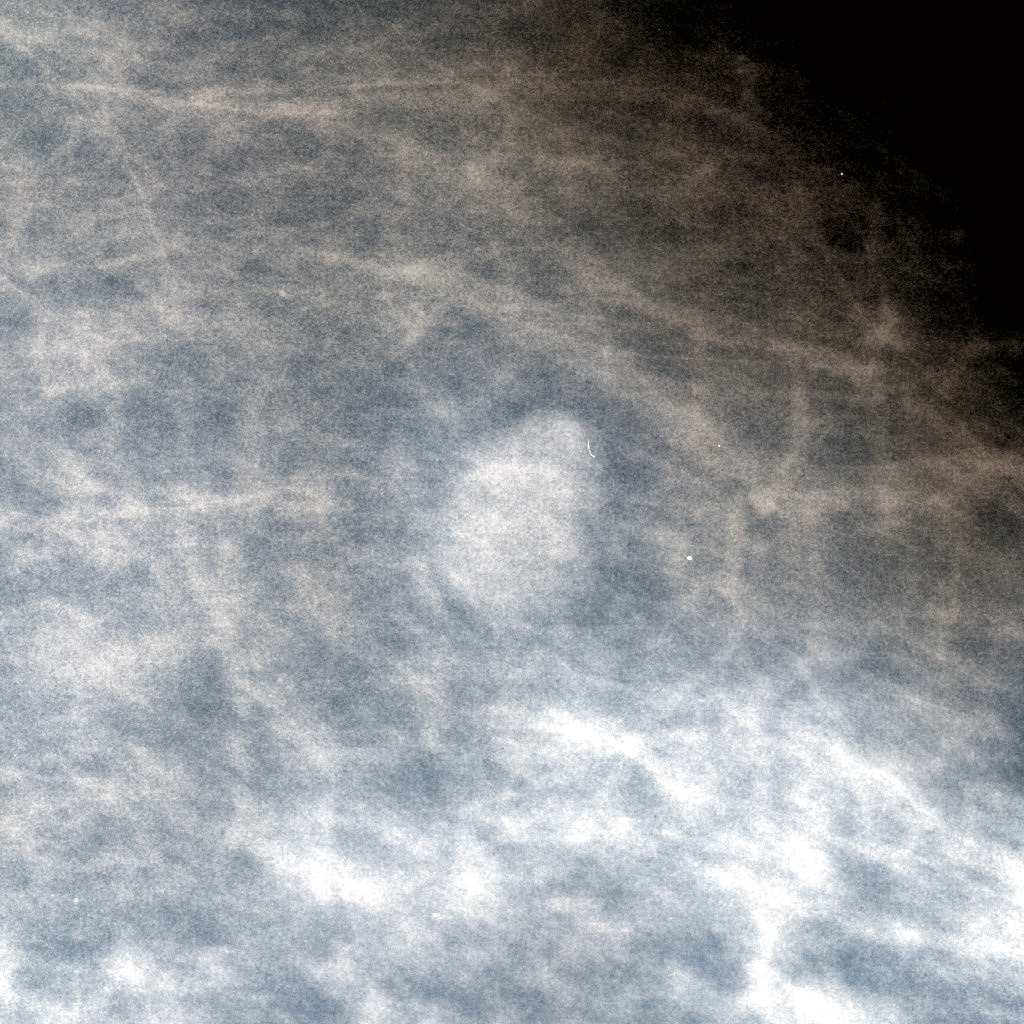tumor: (414, 407, 610, 617)
